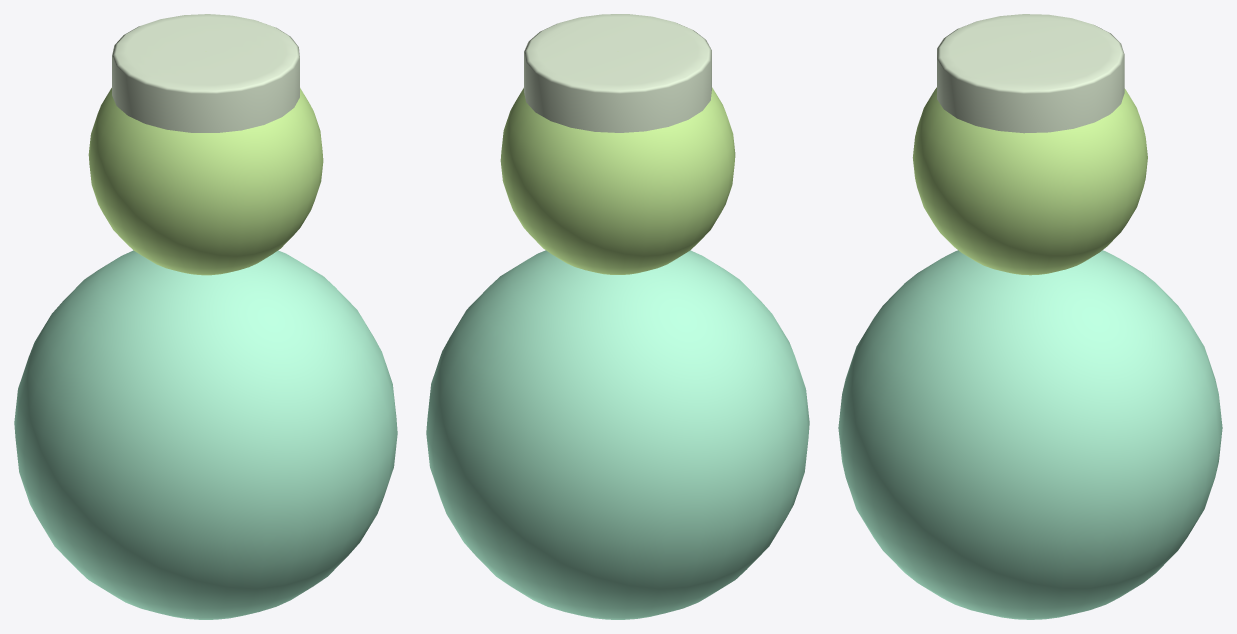
File: Gosn13.fbx
3 views of the same model, side by side, from view 1: azimuth 30°, elevation 25°; view 2: azimuth 150°, elevation 25°; view 3: azimuth 270°, elevation 25° (orthographic).
Parts seen in each view (by area): view 1: cika_4, cika_4.001, cika_4.002; view 2: cika_4, cika_4.001, cika_4.002; view 3: cika_4, cika_4.001, cika_4.002.
Boxes of the visible parts, bbox=[...] form: cika_4: bbox=[14, 250, 397, 619]; cika_4.001: bbox=[88, 88, 323, 275]; cika_4.002: bbox=[112, 14, 299, 132]; cika_4: bbox=[426, 250, 809, 619]; cika_4.001: bbox=[500, 87, 735, 274]; cika_4.002: bbox=[524, 14, 711, 132]; cika_4: bbox=[838, 250, 1222, 619]; cika_4.001: bbox=[912, 51, 1147, 275]; cika_4.002: bbox=[937, 14, 1124, 133].
Size of the model in its own units: 5301 by 8389 by 5301.
